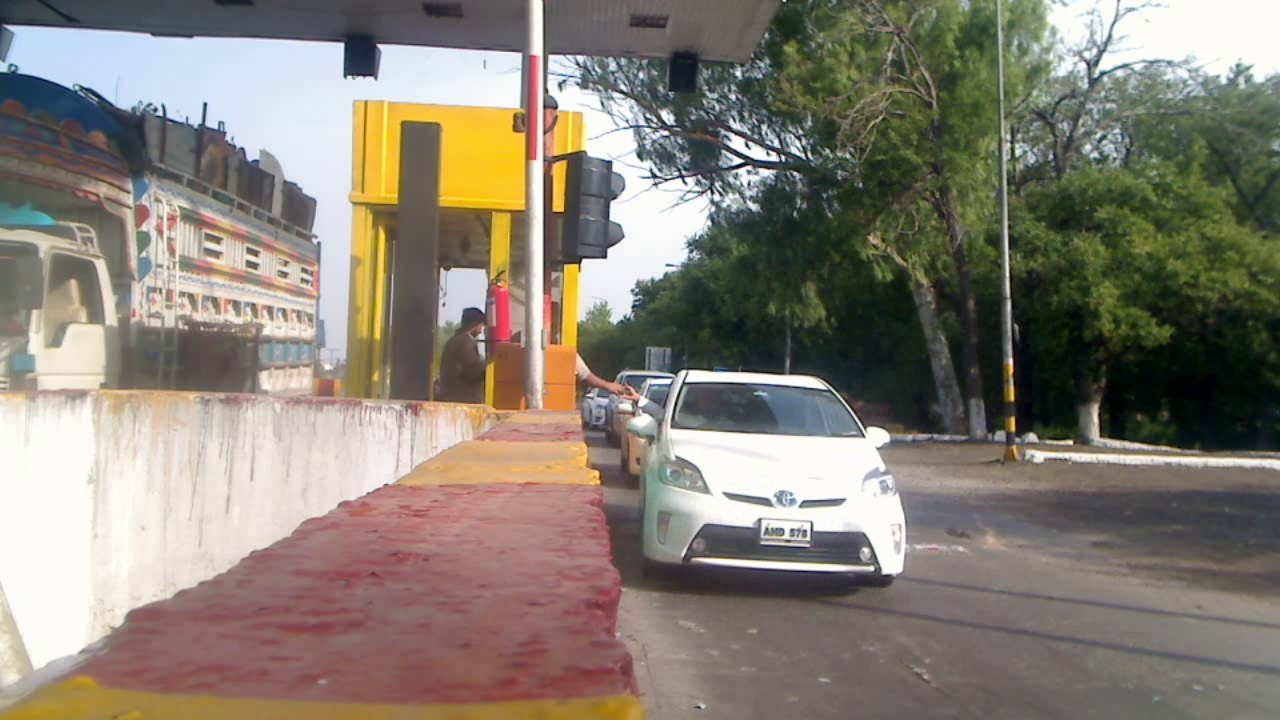Number Plate (Car): (762, 518, 809, 545)
